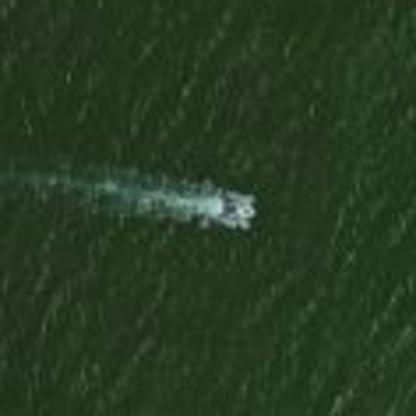ship: (211, 179, 265, 239)
